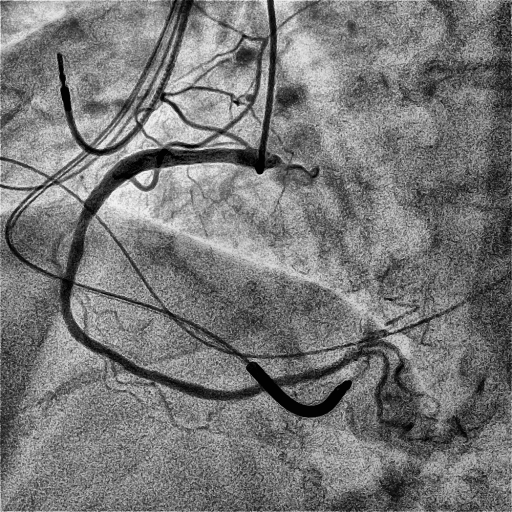pda: (363, 350, 413, 430)
rca: (60, 148, 362, 400)
